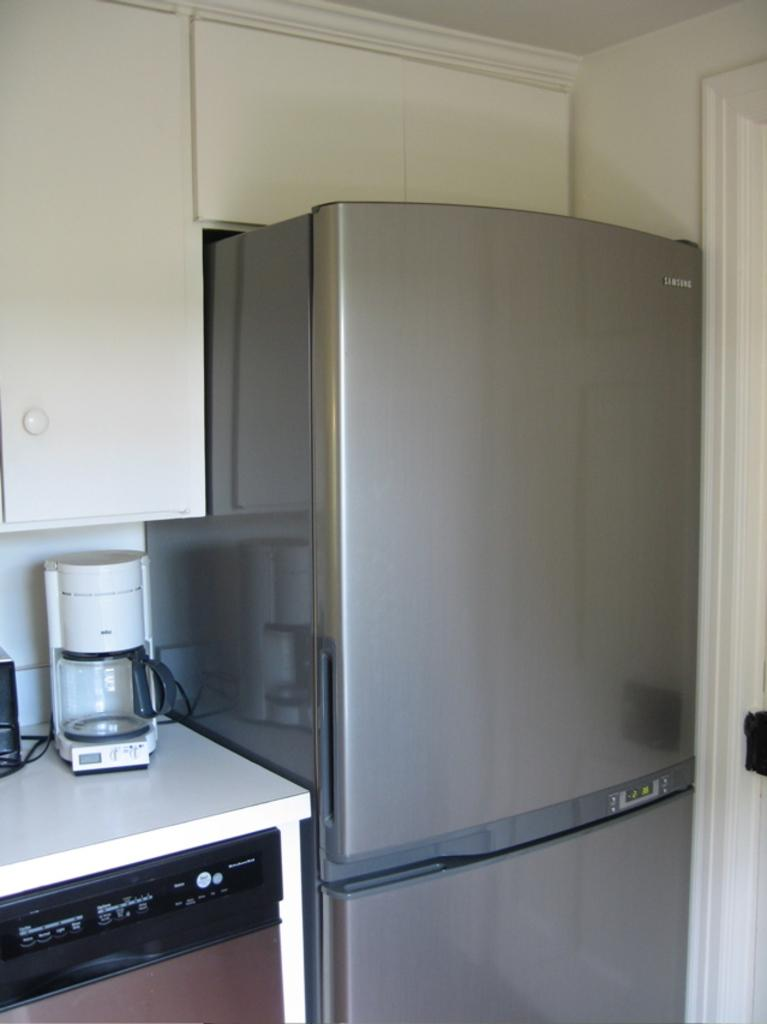cabinet_door: (9, 41, 201, 498), (206, 60, 404, 216), (397, 78, 562, 232)
handle: (314, 646, 350, 822), (18, 404, 49, 448)
